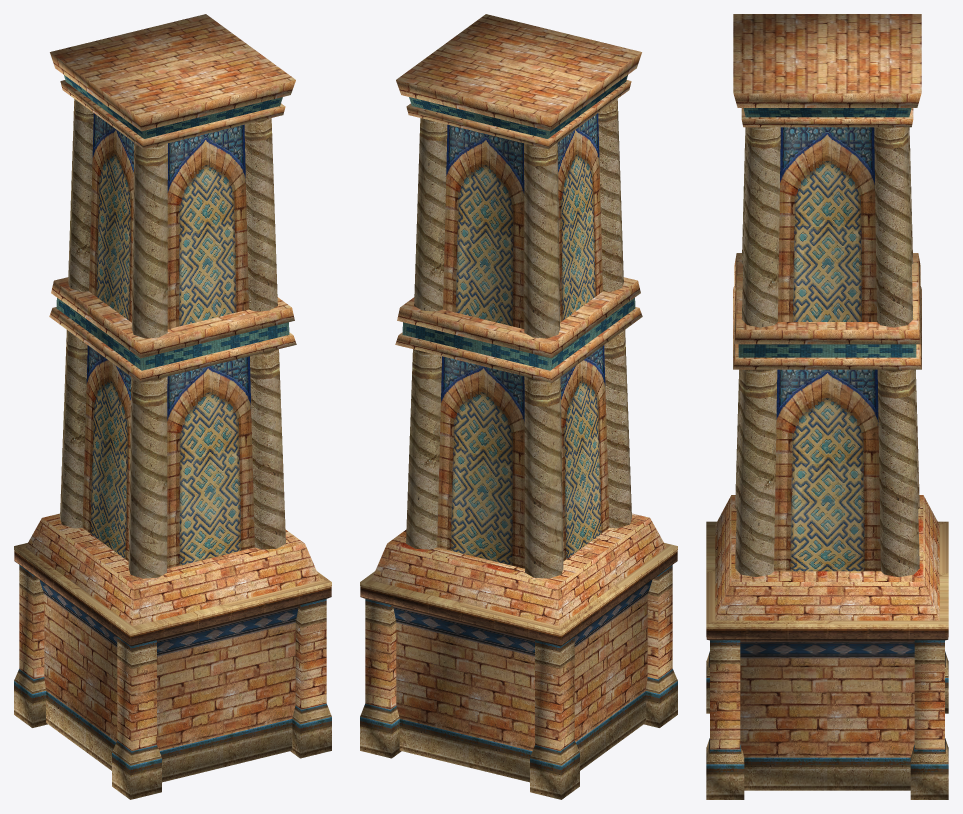
The model's file is OBJSquarePillarShort.gltf.
The picture shows the model from 3 angles, left to right: view 1: azimuth 30°, elevation 25°; view 2: azimuth 150°, elevation 25°; view 3: azimuth 270°, elevation 25°; orthographic projection. The views are drawn at different scales.
Visible parts, largest first — view 1: SquarePillarShort; view 2: SquarePillarShort; view 3: SquarePillarShort.
Boxes of the visible parts, <box> form: SquarePillarShort: <box>14,14,331,799</box>; SquarePillarShort: <box>360,14,677,799</box>; SquarePillarShort: <box>706,14,948,799</box>.
Size of the model in its own units: 3.17 by 10.03 by 3.17.
2 materials, 2 textured.
